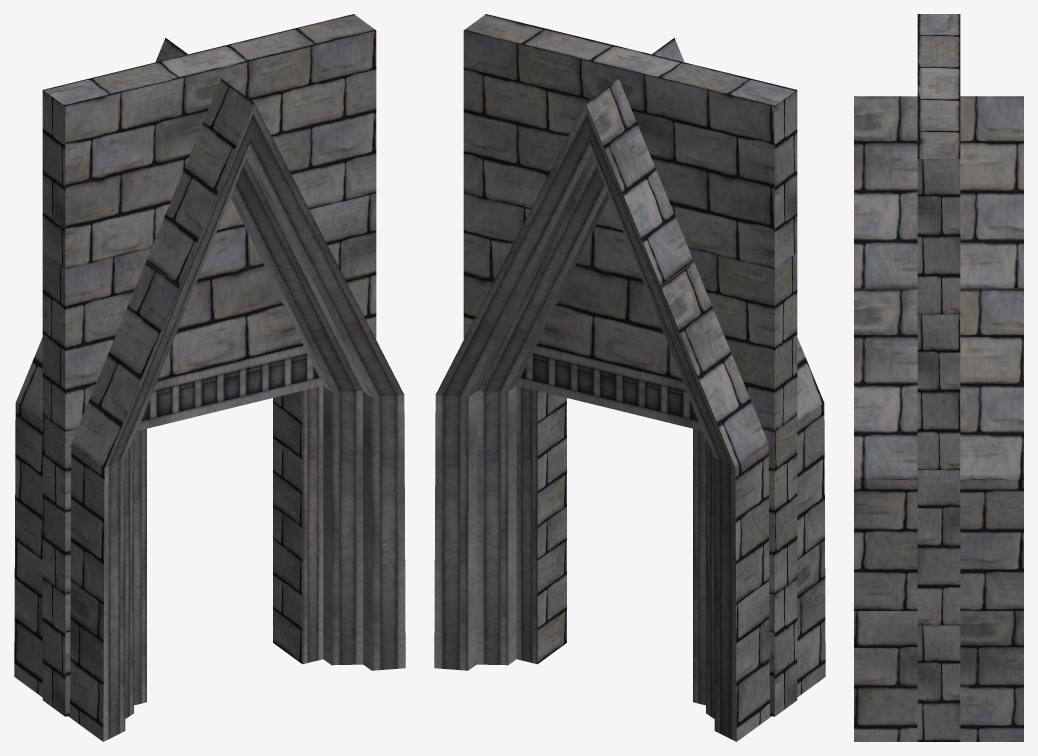
Rendered from doorway_inner_01.glb.
3 renders of one model, left to right at view 1: azimuth 30°, elevation 25°; view 2: azimuth 150°, elevation 25°; view 3: azimuth 270°, elevation 25°, orthographic. The views are drawn at different scales.
Visible parts, largest first — view 1: doorway_inner_01; view 2: doorway_inner_01; view 3: doorway_inner_01.
Part boxes in pixels (box(x1,y1,x2,y2)): doorway_inner_01: box(14, 14, 405, 741); doorway_inner_01: box(434, 14, 825, 741); doorway_inner_01: box(854, 14, 1023, 741).
Bounding box in the file's own units: 8 × 15.05 × 3.96.
1 material, 1 textured.
